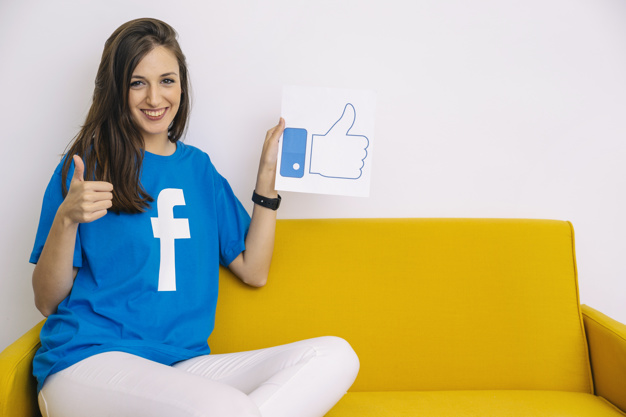thumbsup: (72, 154, 114, 222)
